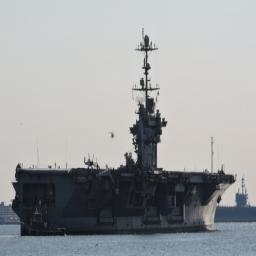Portanaves: (11, 23, 239, 242)
